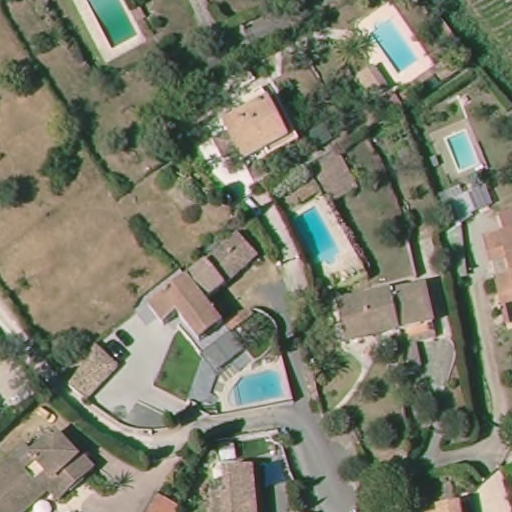pool: (283, 203, 344, 268), (76, 1, 142, 52), (367, 15, 422, 76), (222, 366, 292, 412), (440, 127, 485, 177)
